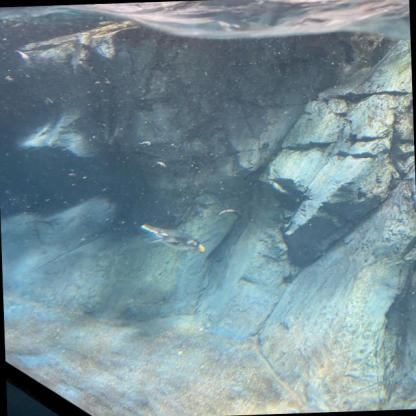puffin: (18, 22, 132, 71), (11, 104, 98, 162), (138, 221, 206, 256)
